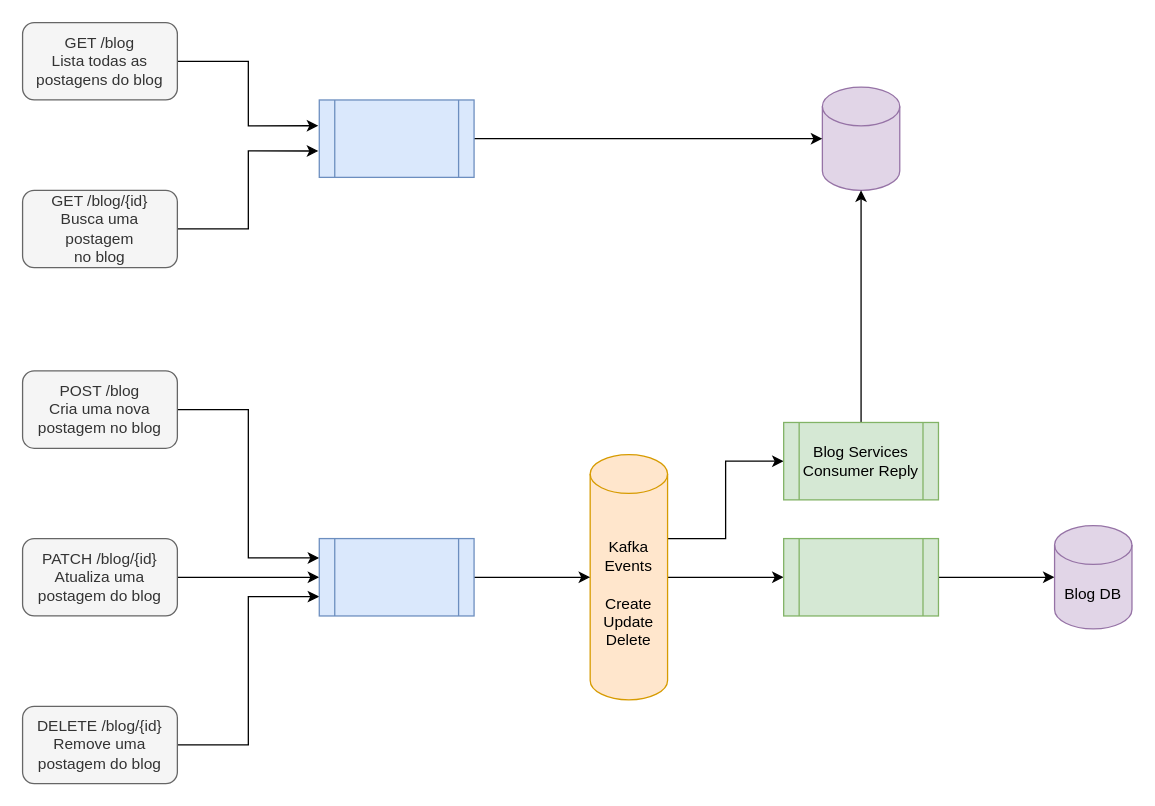
Image size: 1155x806. Some labels were removed from this diagram. Each missing label, with the centre of its shape:
"Blog Query Redis" belongs at pixel 860 138.
"Blog Services API Query" belongs at pixel 396 138.
"Blog Services Consumer" belongs at pixel 860 576.
"Blog Services Producer" belongs at pixel 396 576.
